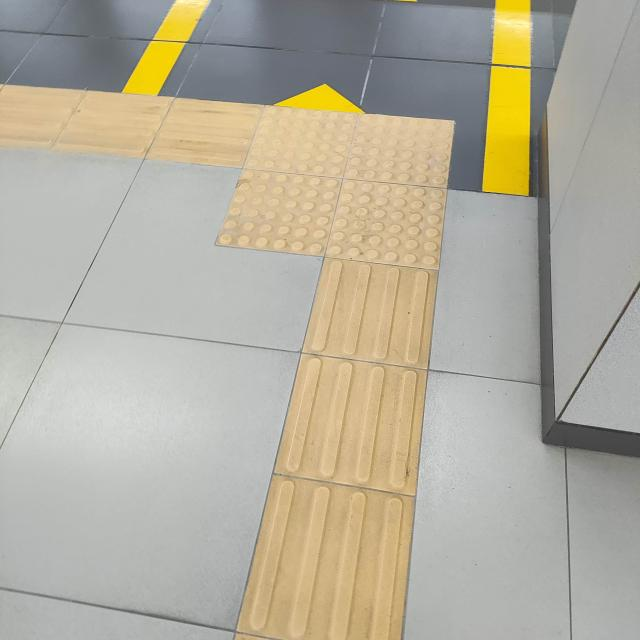kiri: (96, 63, 487, 307)
